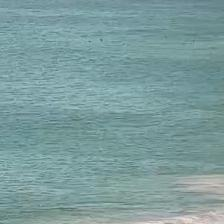surfer: (98, 38, 104, 43), (88, 40, 93, 44), (122, 42, 126, 46), (164, 36, 168, 40), (192, 39, 196, 43)
